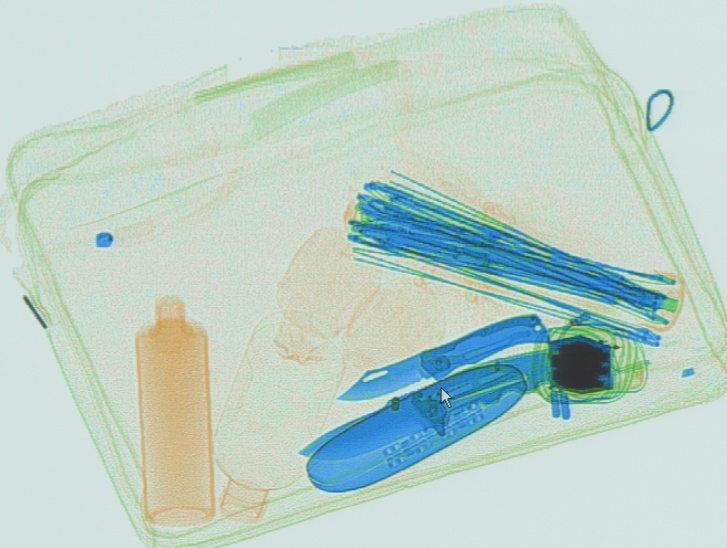knife: (293, 339, 608, 461), (334, 313, 550, 402)
